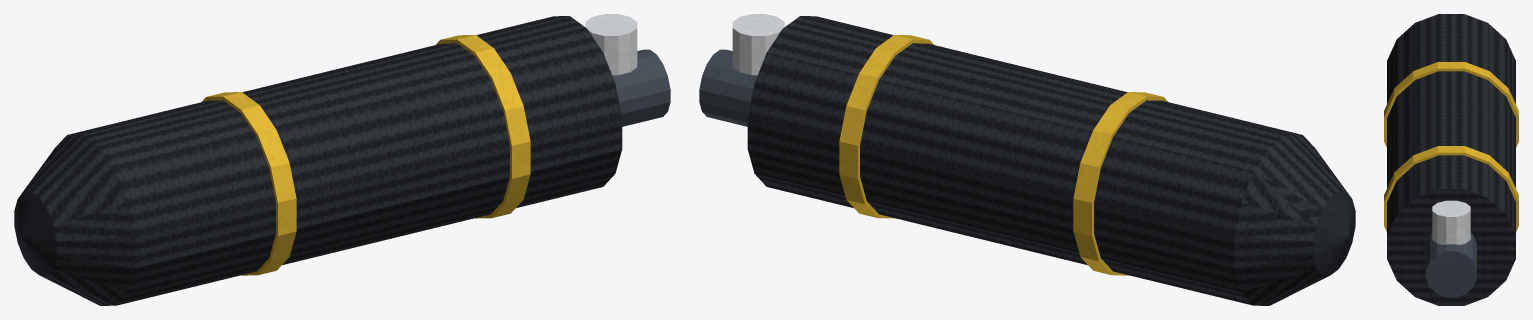
The model's file is tank_hpa_carbon_v2.glb.
3 views of the same model, side by side, from view 1: azimuth 30°, elevation 25°; view 2: azimuth 150°, elevation 25°; view 3: azimuth 270°, elevation 25° (orthographic). The views are drawn at different scales.
Visible parts, largest first — view 1: tank_hpa_carbon_mesh; view 2: tank_hpa_carbon_mesh; view 3: tank_hpa_carbon_mesh.
Part boxes in pixels (x1,y1,x2,y2): tank_hpa_carbon_mesh: (14, 14, 670, 305); tank_hpa_carbon_mesh: (699, 14, 1355, 305); tank_hpa_carbon_mesh: (1384, 14, 1518, 305).
Bounding box in the file's own units: 0.27 × 0.0677 × 0.0677.
5 materials, 5 textured.
